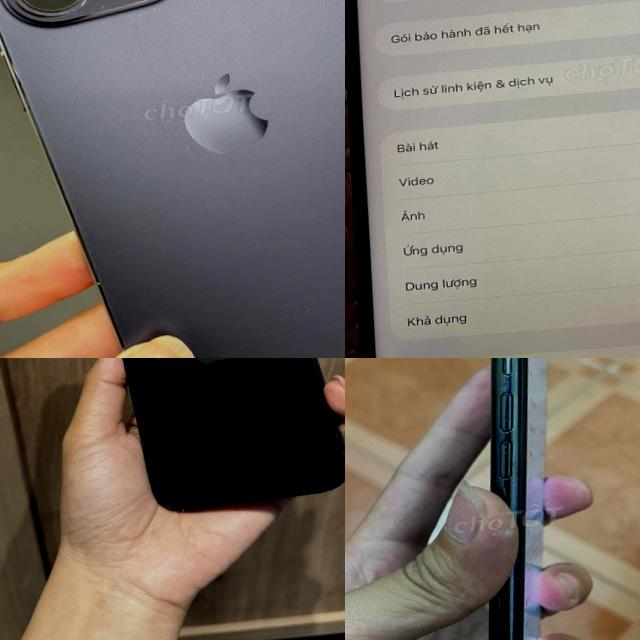gen_11: (435, 358, 590, 640)
gen_12_13: (96, 358, 345, 517)
gen_14: (0, 0, 345, 358), (345, 0, 640, 358)
